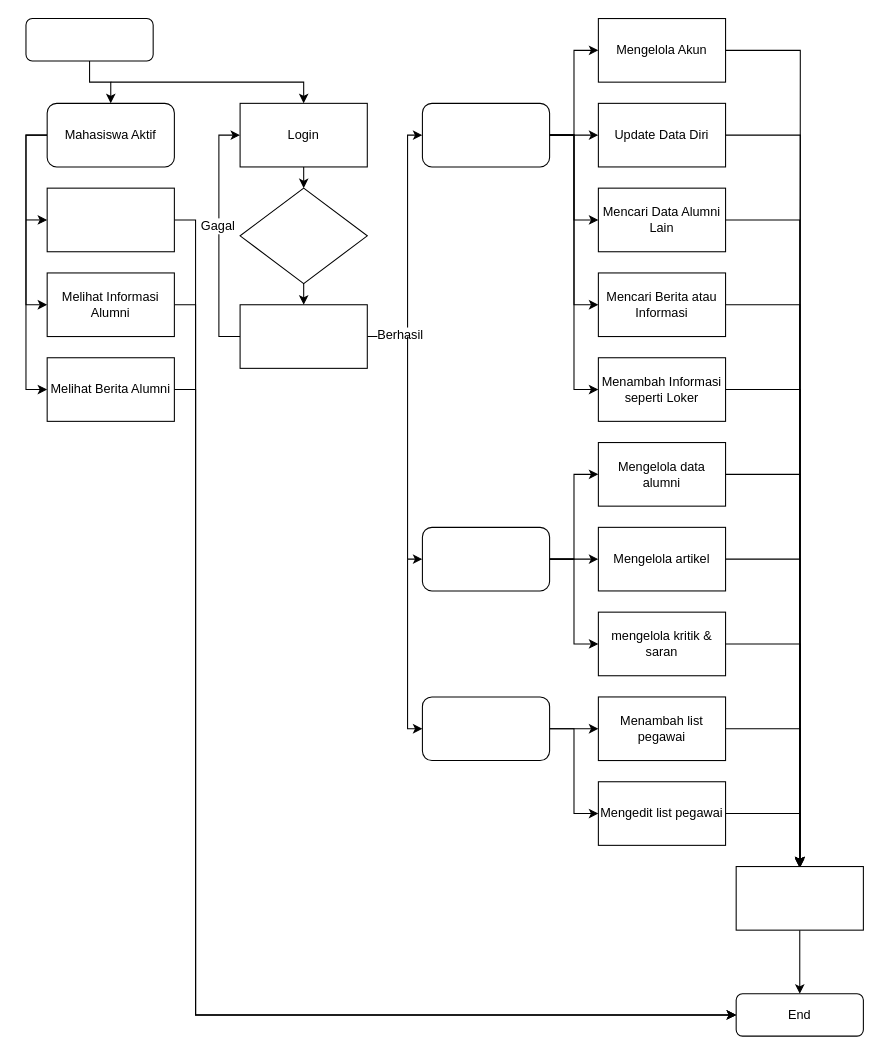
This 882x1055 diagram has some shape labels left out. Each missing label, with the box of its shape:
Admin: (421, 696, 550, 761)
Alumni: (421, 102, 550, 167)
Input usename & kata sandi: (239, 187, 367, 284)
Logout: (735, 865, 863, 930)
Mencari Alumni: (46, 187, 174, 252)
Pegawai: (421, 526, 550, 591)
Start: (25, 17, 153, 61)
Validasi: (239, 304, 367, 368)
